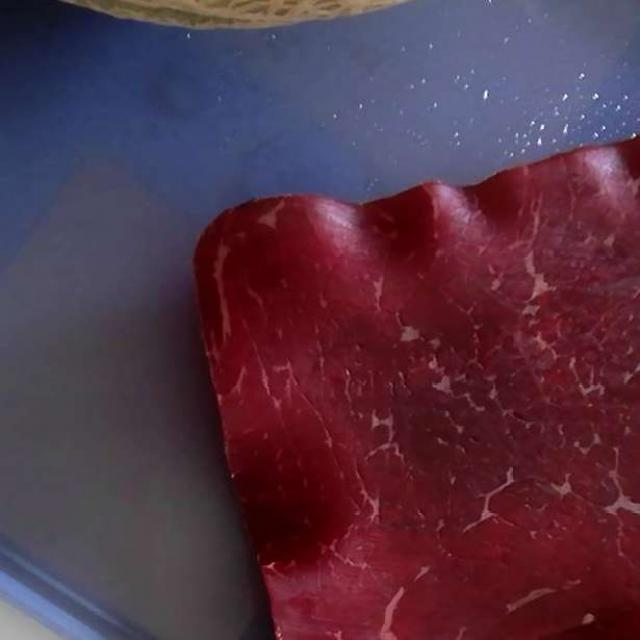dried-meat: (200, 141, 636, 622)
